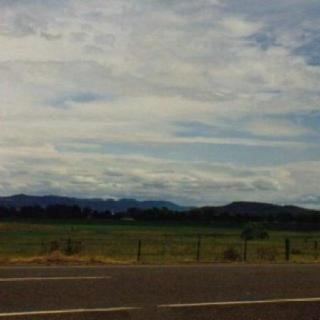Stratocumulus: (0, 0, 320, 194)
